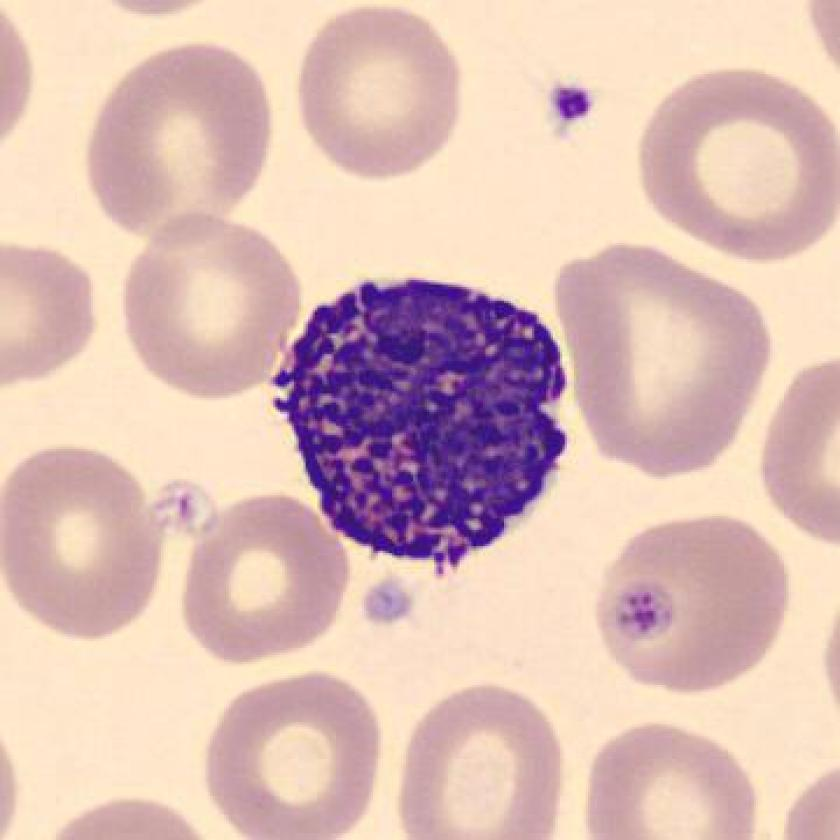basophil: (258, 265, 580, 579)
